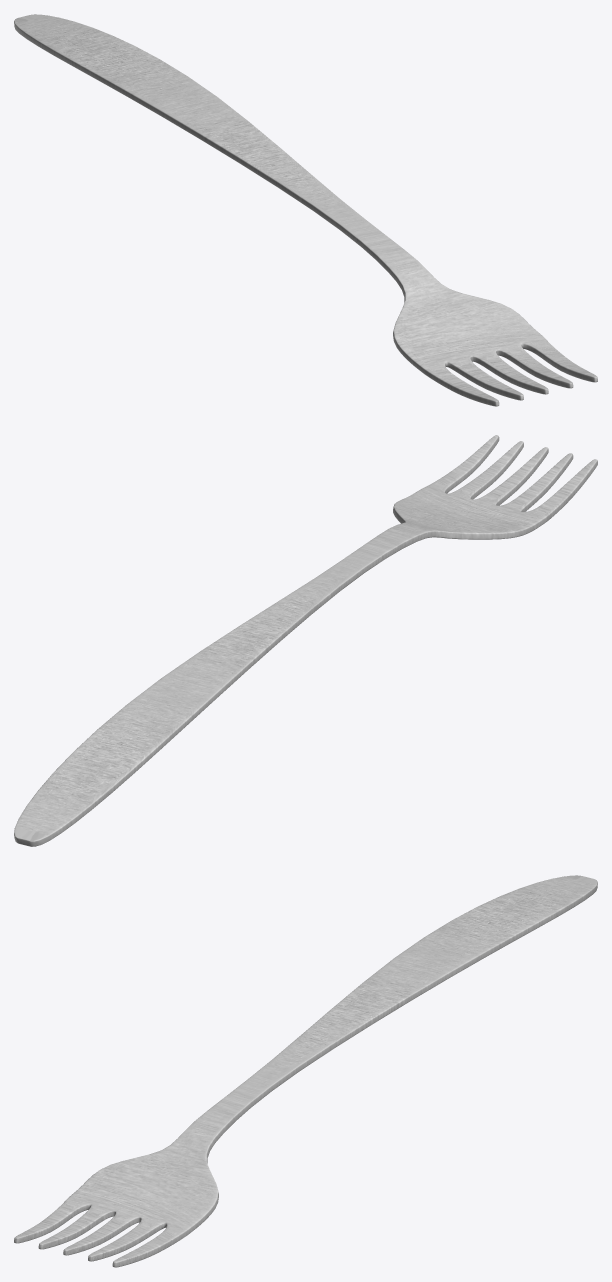
The model's file is textured fork.fbx.
3 views of the same model, one above another, from view 1: azimuth 30°, elevation 25°; view 2: azimuth 150°, elevation 25°; view 3: azimuth 330°, elevation 25° (orthographic).
Parts seen in each view (by area): view 1: pPlane1; view 2: pPlane1; view 3: pPlane1.
Part boxes in pixels (x1,y1,x2,y2): pPlane1: (14,14,597,406); pPlane1: (14,435,597,846); pPlane1: (14,875,597,1267).
Size of the model in its own units: 1.22 by 0.4101 by 8.96.
Materials: 1 (1 with a texture image).
